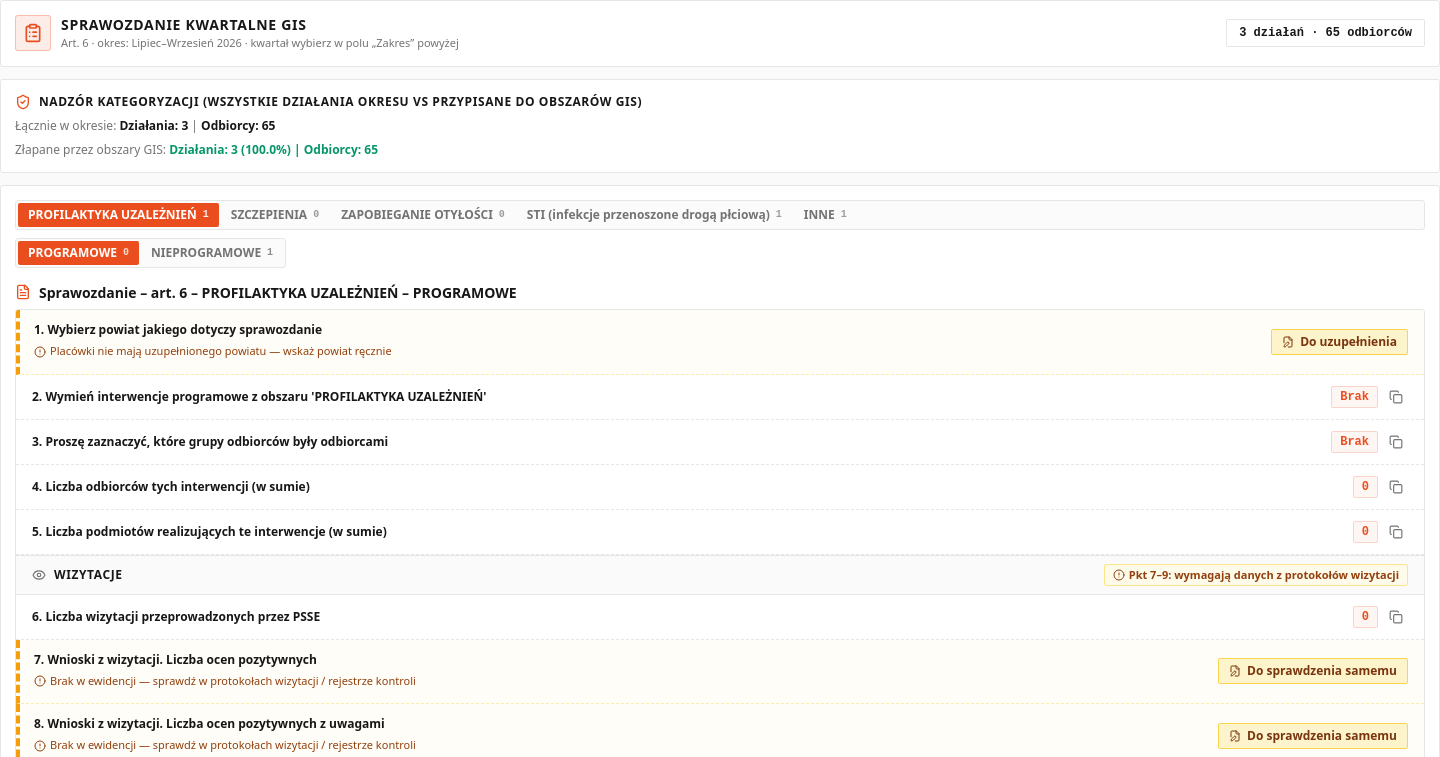
Test: ReportGisTab › shows the report for the active area and program type
The width and height of the screenshot is (1440, 757).
Check: the text "Lipiec–Wrzesień 2026" is shown, box left=132, top=35, right=242, bottom=50
Check: the heading "Sprawozdanie – art. 6 – PROFILAKTYKA UZALEŻNIEŃ – PROGRAMOWE" is shown, box left=39, top=284, right=517, bottom=301
Click the tab "NIEPROGRAMOWE 1" at coordinates (212, 252), box left=141, top=240, right=283, bottom=264
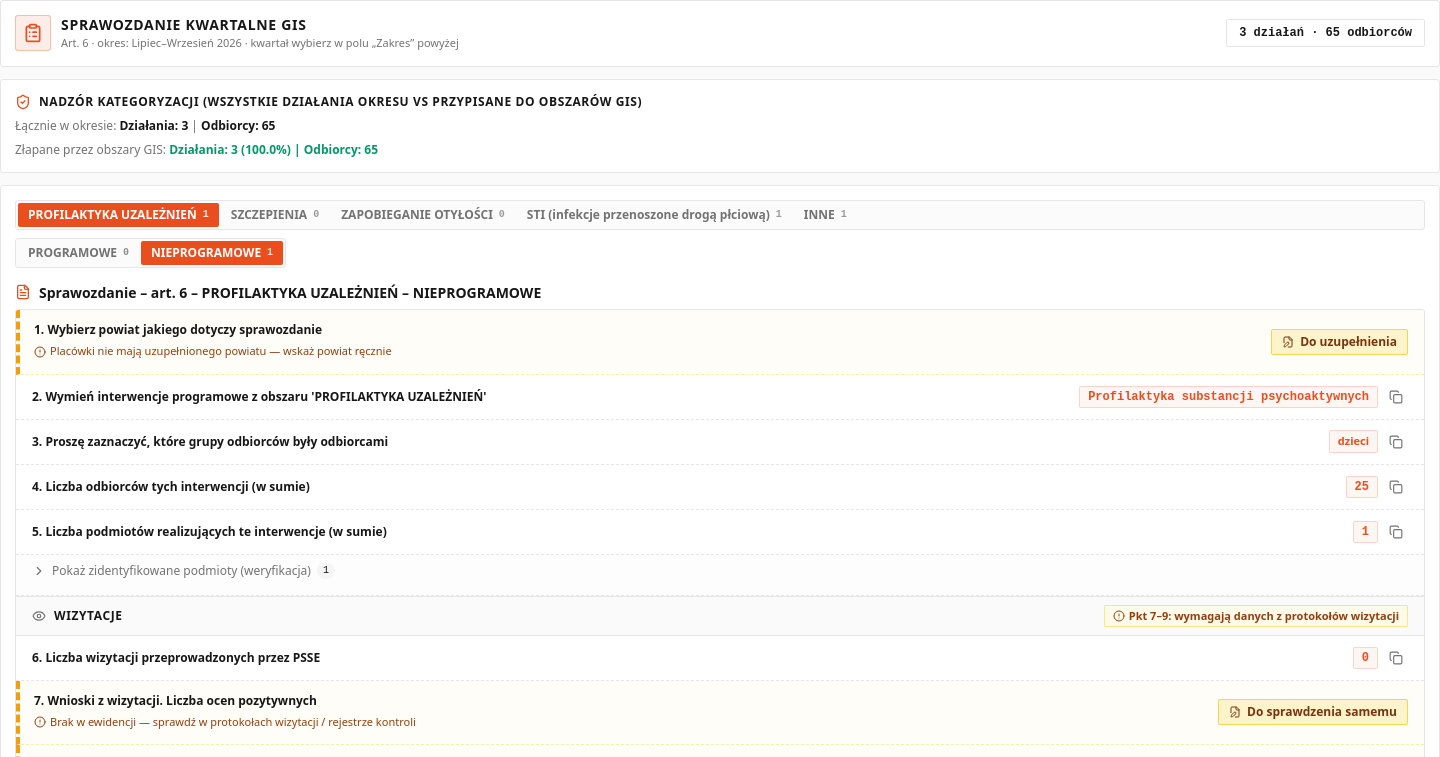
Check: the text "25" is shown, box left=1346, top=476, right=1378, bottom=498
Click the tab "STI (infekcje przenoszone drogą płciową) 1" at coordinates (654, 214), box left=517, top=202, right=792, bottom=226
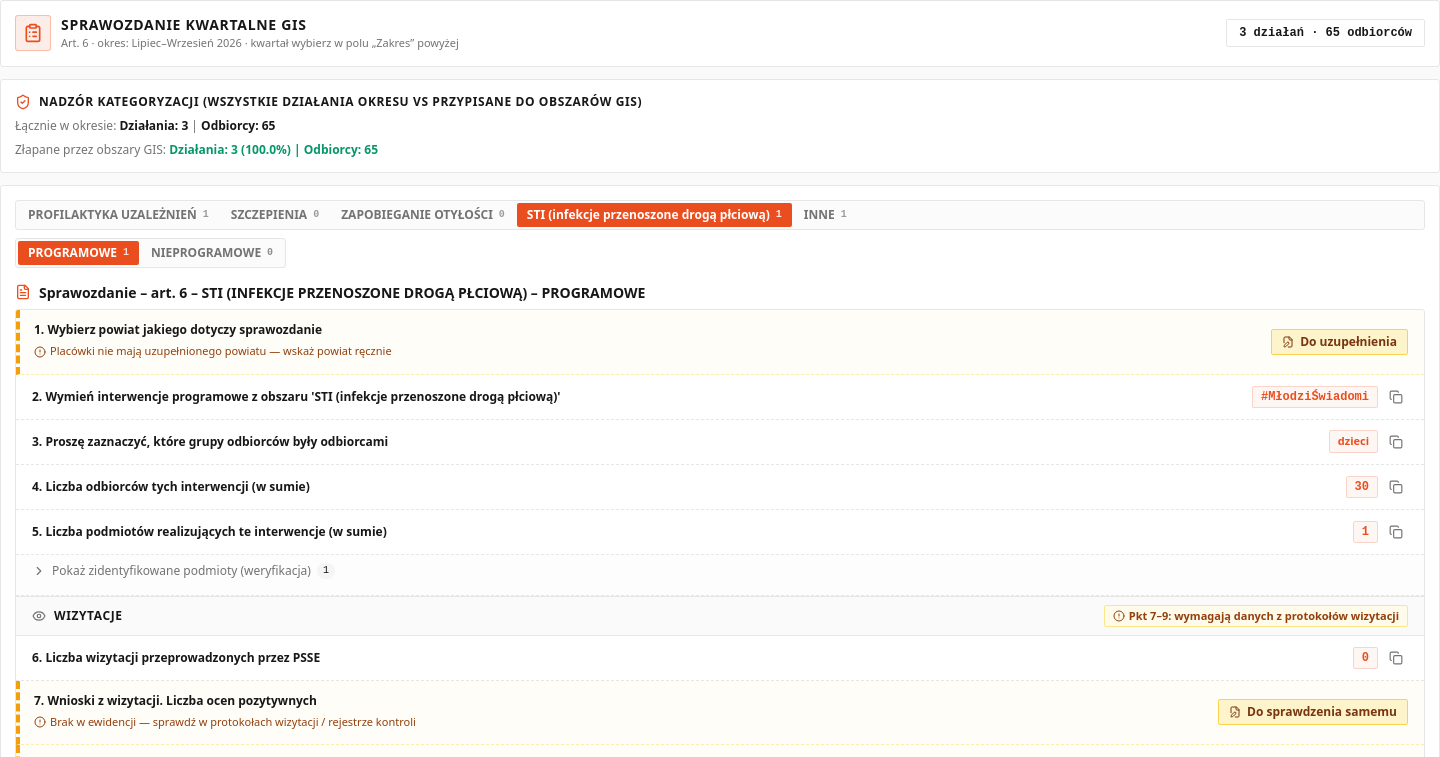
Check: the heading "STI (INFEKCJE PRZENOSZONE DROGĄ PŁCIOWĄ) – PROGRAMOWE" is shown, box left=39, top=284, right=645, bottom=301
Check: the text "30" is shown, box left=1346, top=476, right=1378, bottom=498
